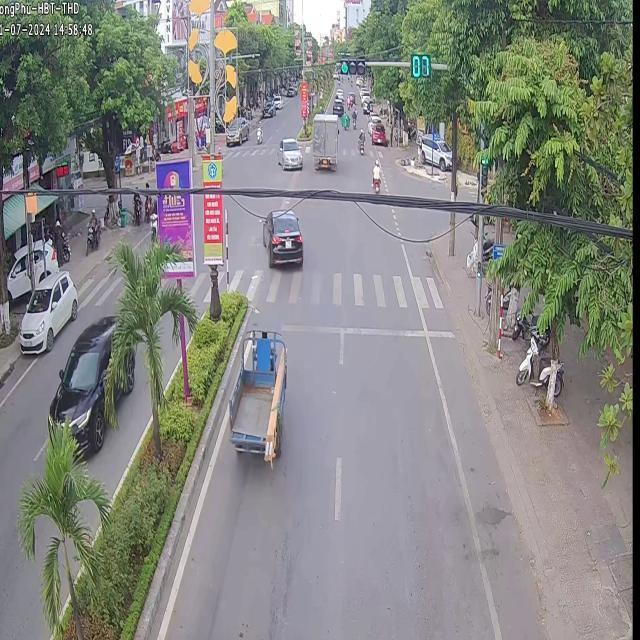car: (220, 319, 288, 484), (262, 213, 303, 275), (311, 113, 337, 170), (276, 136, 299, 167)
green_light: (338, 54, 364, 74), (479, 149, 489, 186)
motobike: (370, 159, 379, 186)
stop_line: (255, 320, 455, 337)
